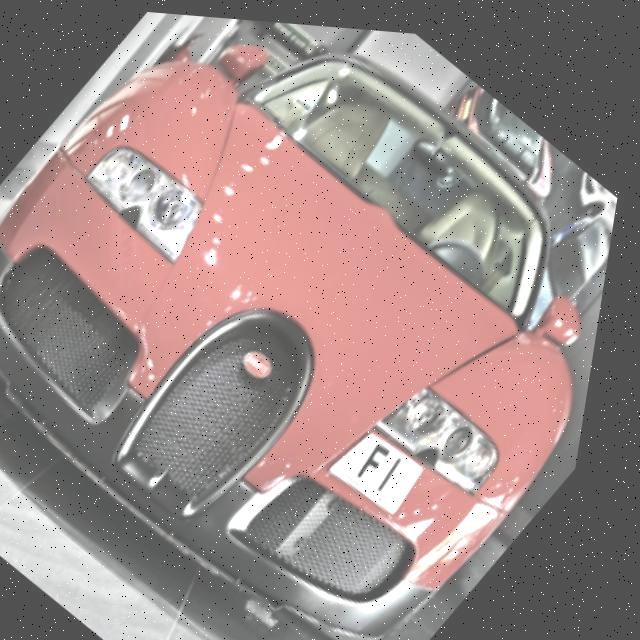license_plate: (343, 416, 444, 512)
